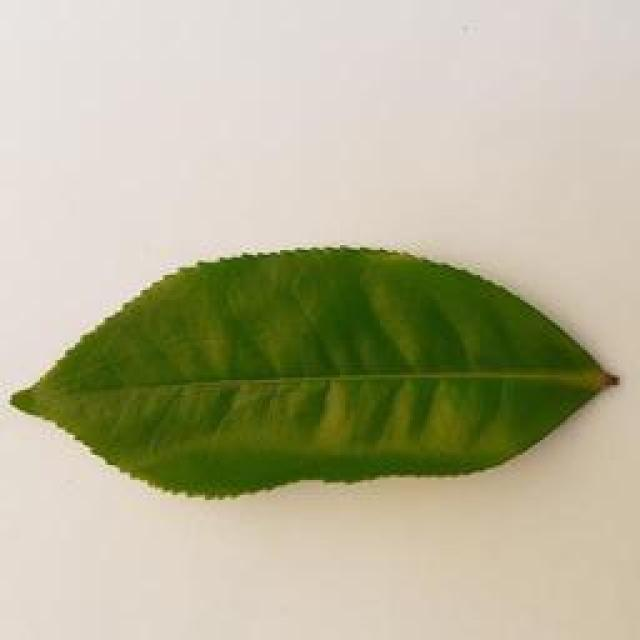Healthy: (0, 239, 640, 513)
